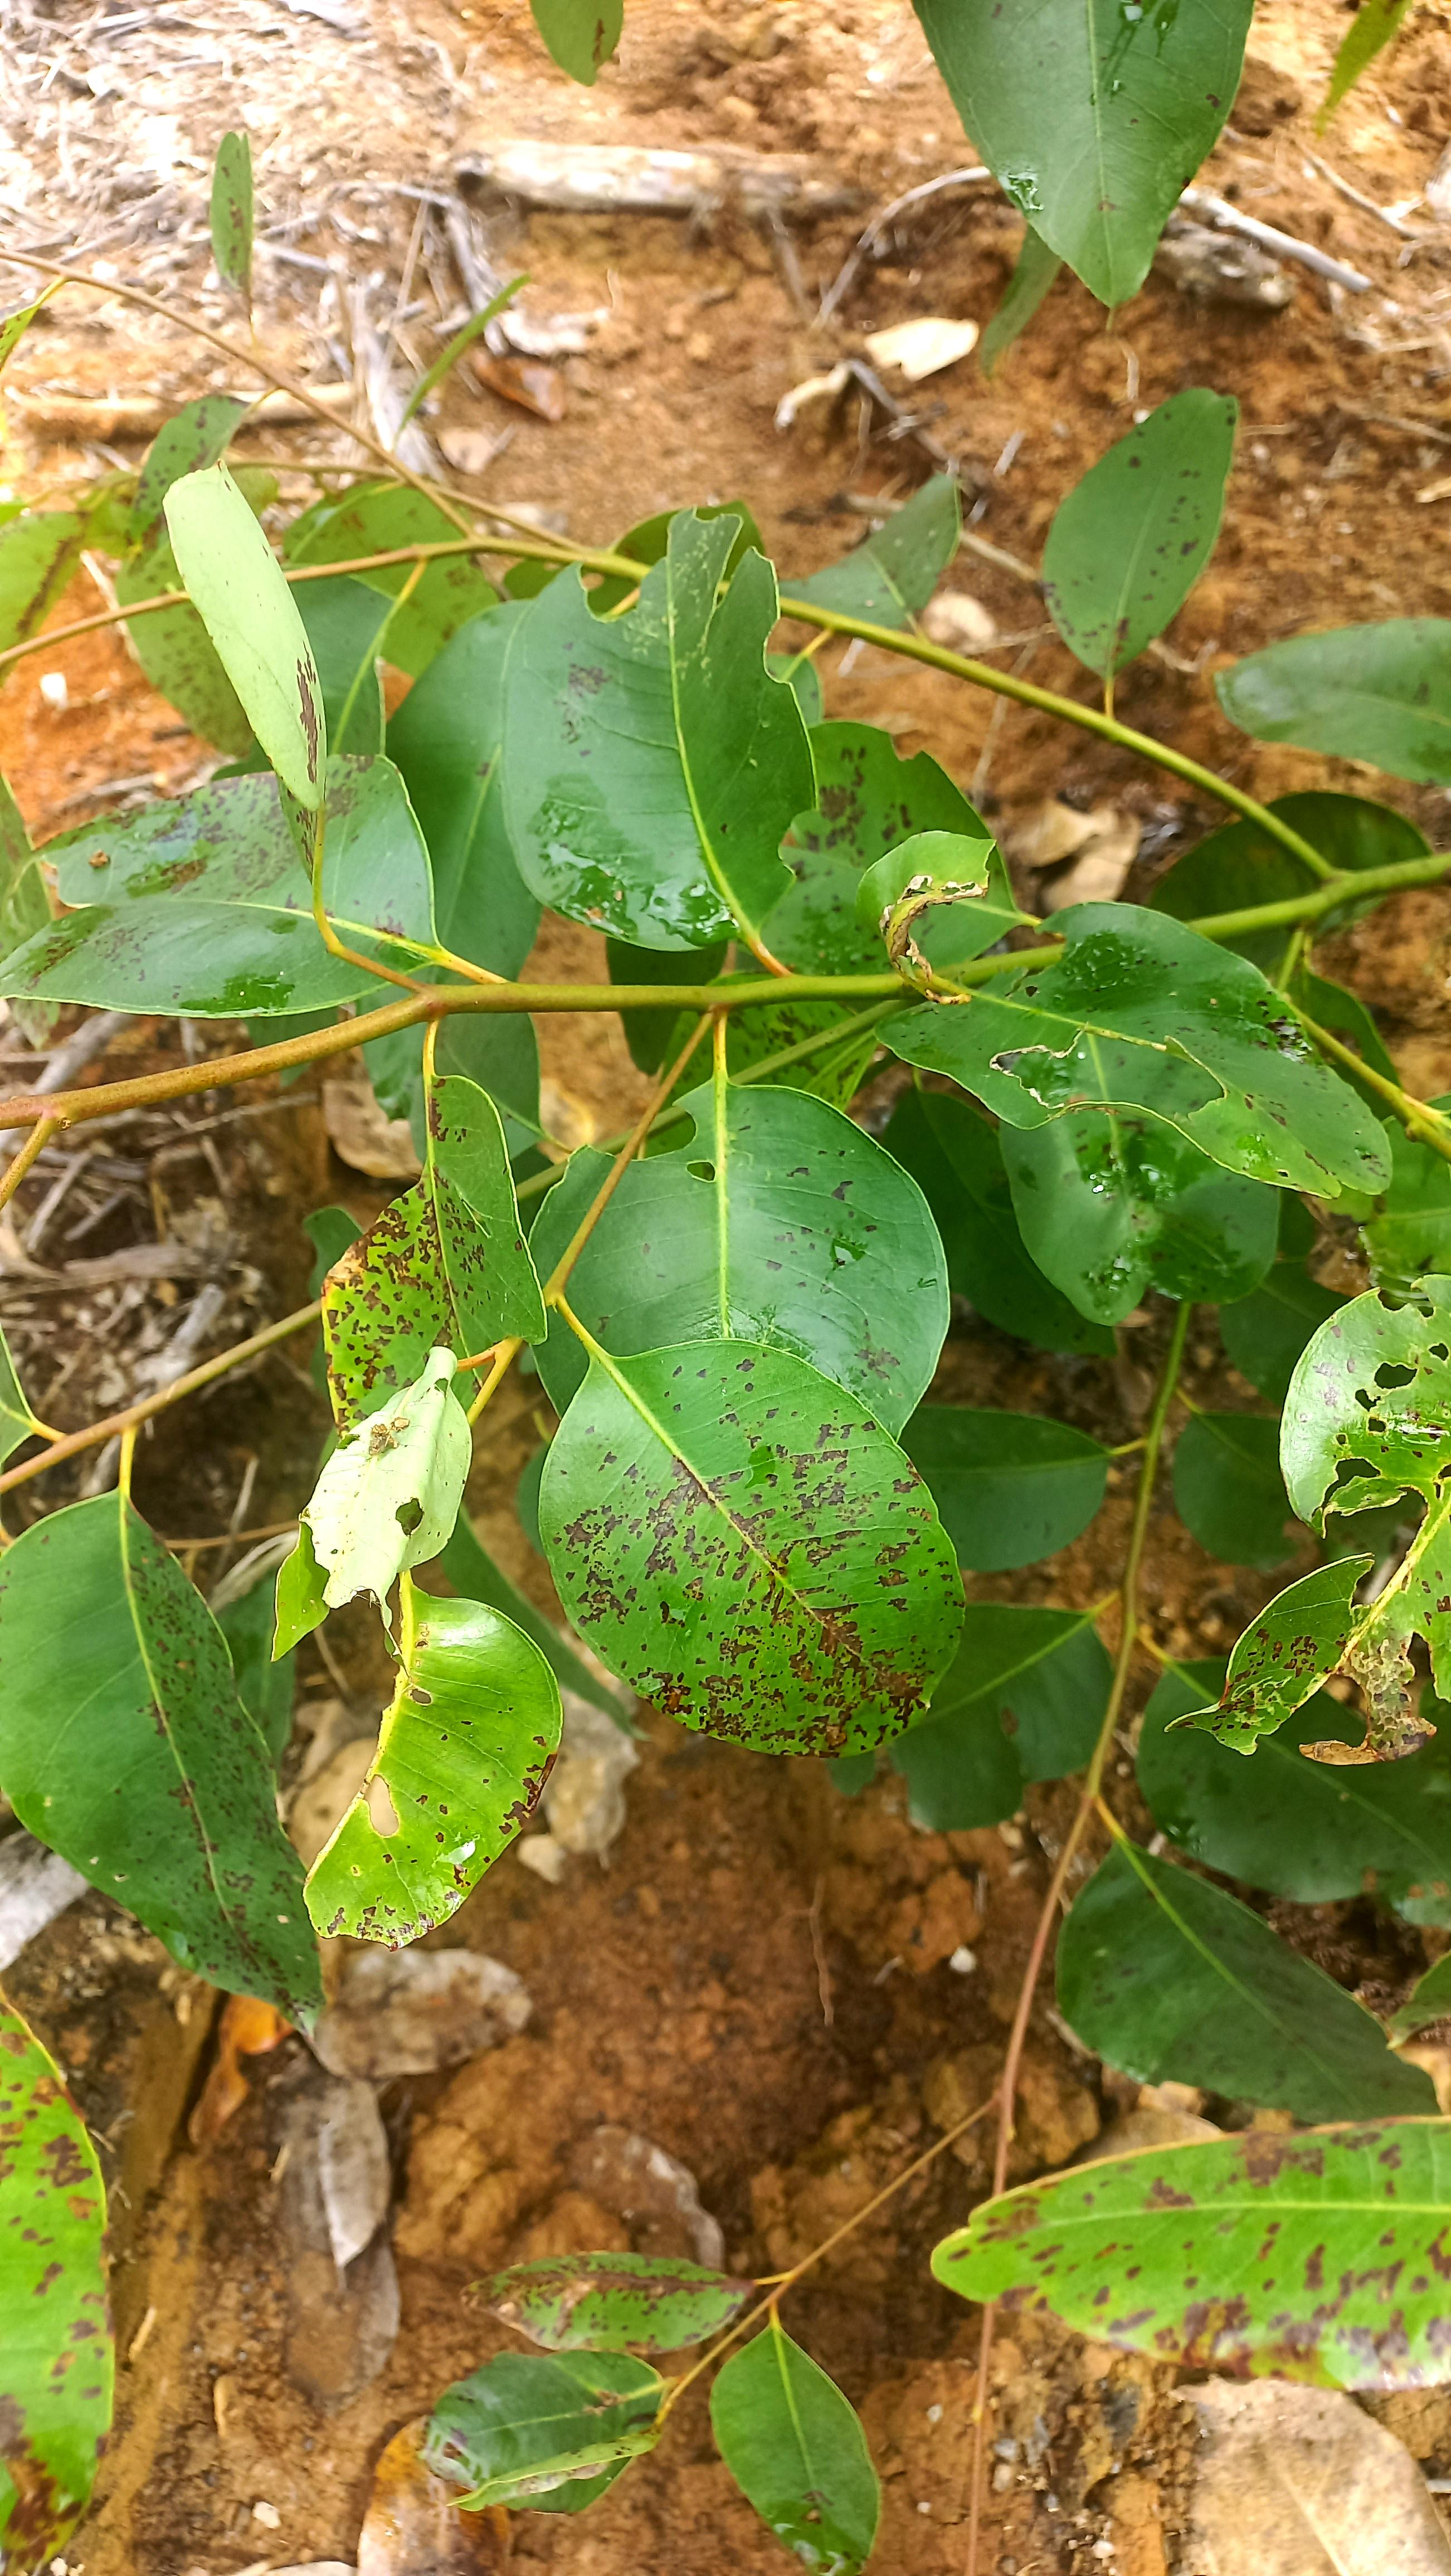Xanthomonas: (557, 1376, 957, 1766), (963, 2137, 1451, 2399), (299, 1136, 497, 1437)
